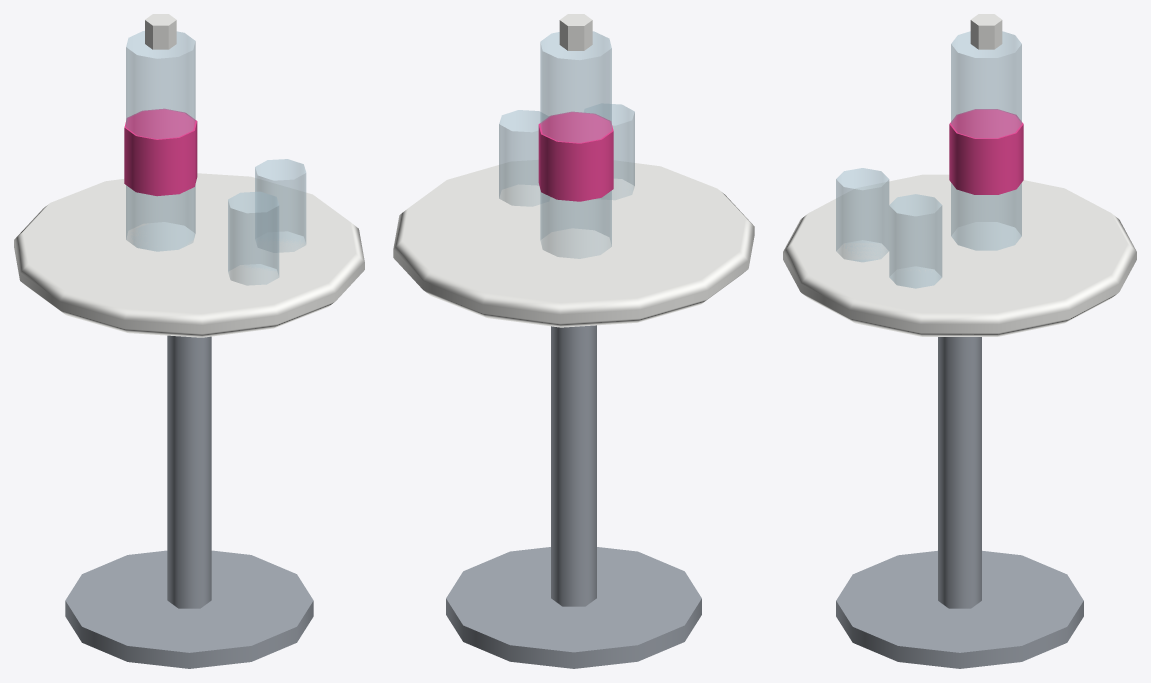
Rendered from station_special_ausstattung_3_0.glb.
3 renders of one model, left to right at view 1: azimuth 30°, elevation 25°; view 2: azimuth 150°, elevation 25°; view 3: azimuth 270°, elevation 25°, orthographic. The views are drawn at different scales.
Visible parts, largest first — view 1: station_special_ausstattung_3_0; view 2: station_special_ausstattung_3_0; view 3: station_special_ausstattung_3_0.
Boxes of the visible parts, left/top/right/bottom form: station_special_ausstattung_3_0: left=14, top=14, right=364, bottom=668; station_special_ausstattung_3_0: left=393, top=14, right=754, bottom=668; station_special_ausstattung_3_0: left=783, top=14, right=1136, bottom=668.
Size of the model in its own units: 0.39 by 0.735 by 0.4.
